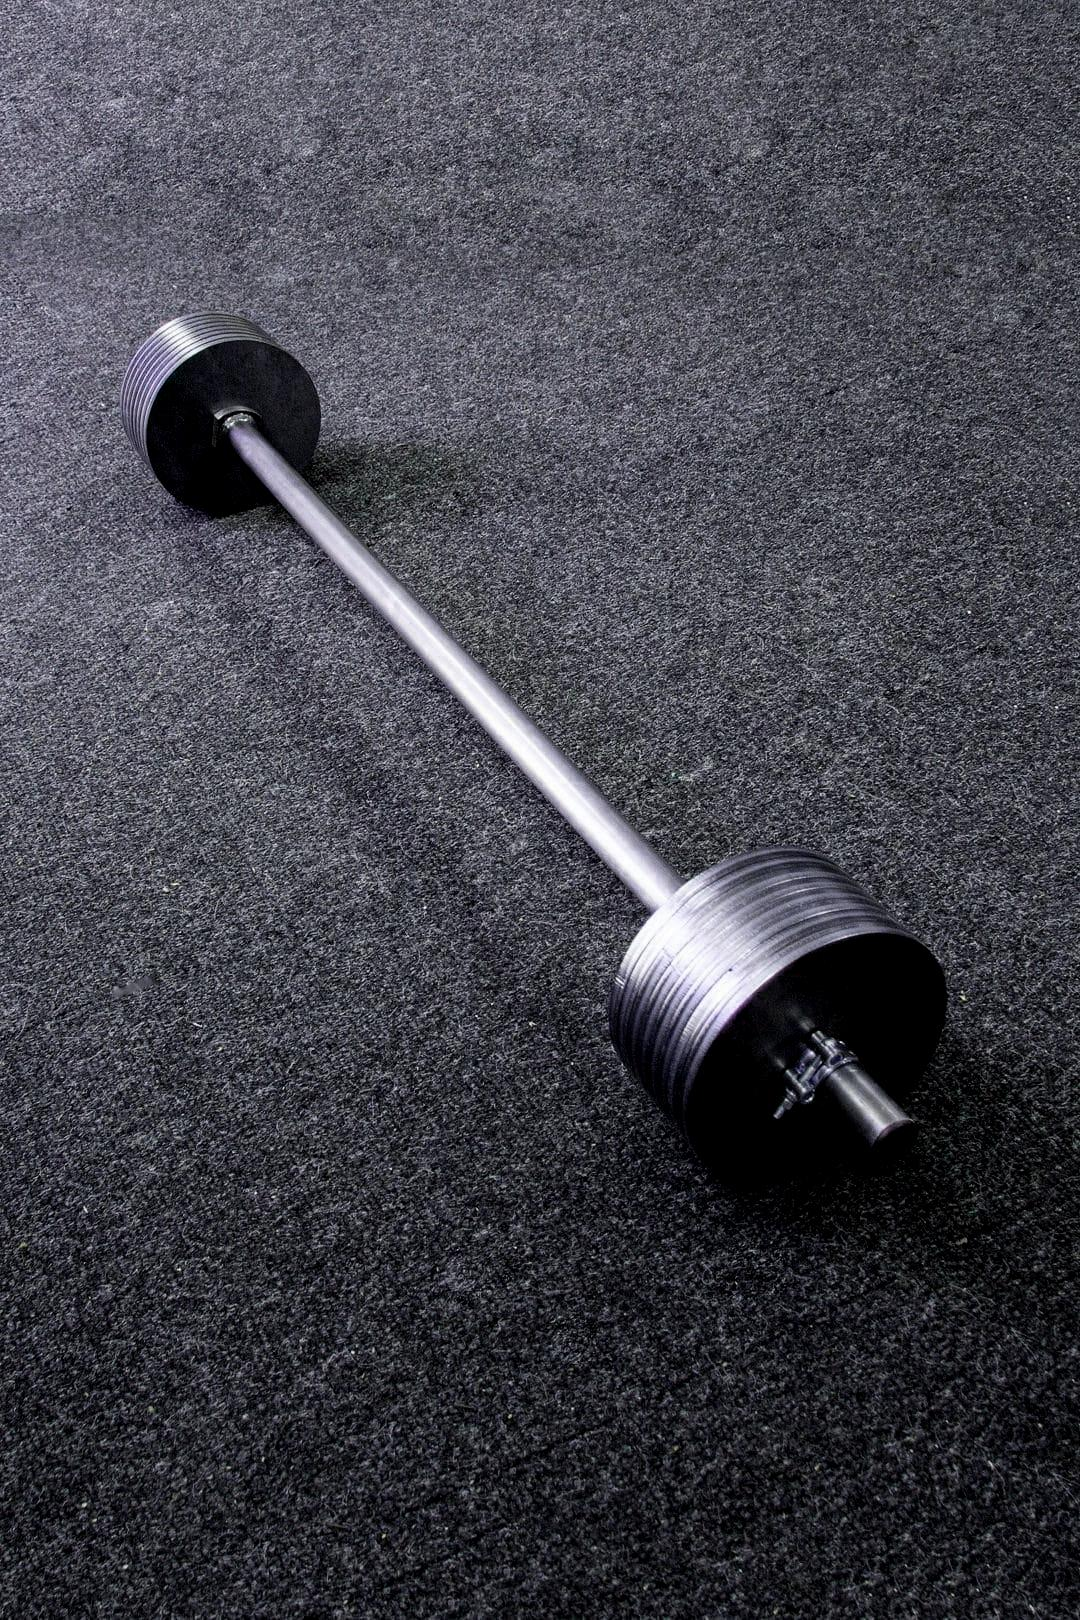Barbell: (843, 1096, 943, 1198)
